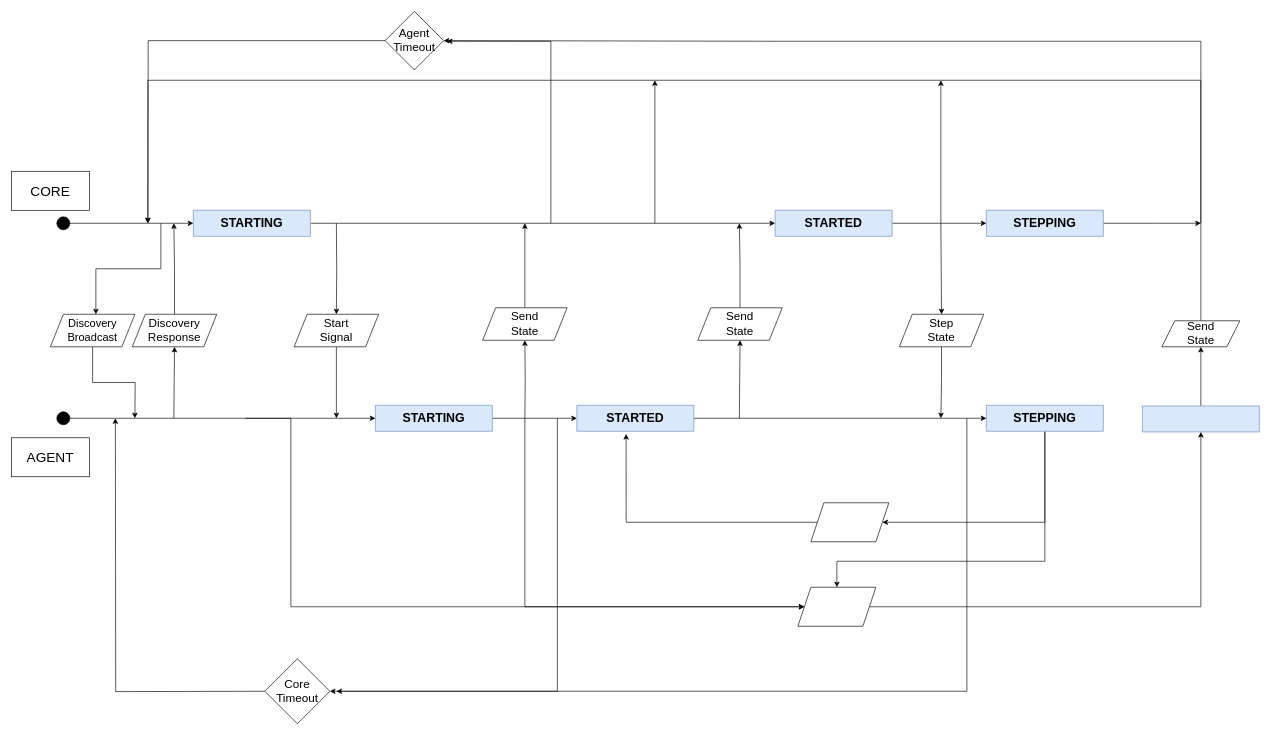
This 1271x735 diagram has some shape labels left out. Each missing label, with the centre of its shape:
"End Step" goes at (x=849, y=522).
"ERROR" goes at (x=1200, y=418).
"Error Occurrence" goes at (x=836, y=606).
